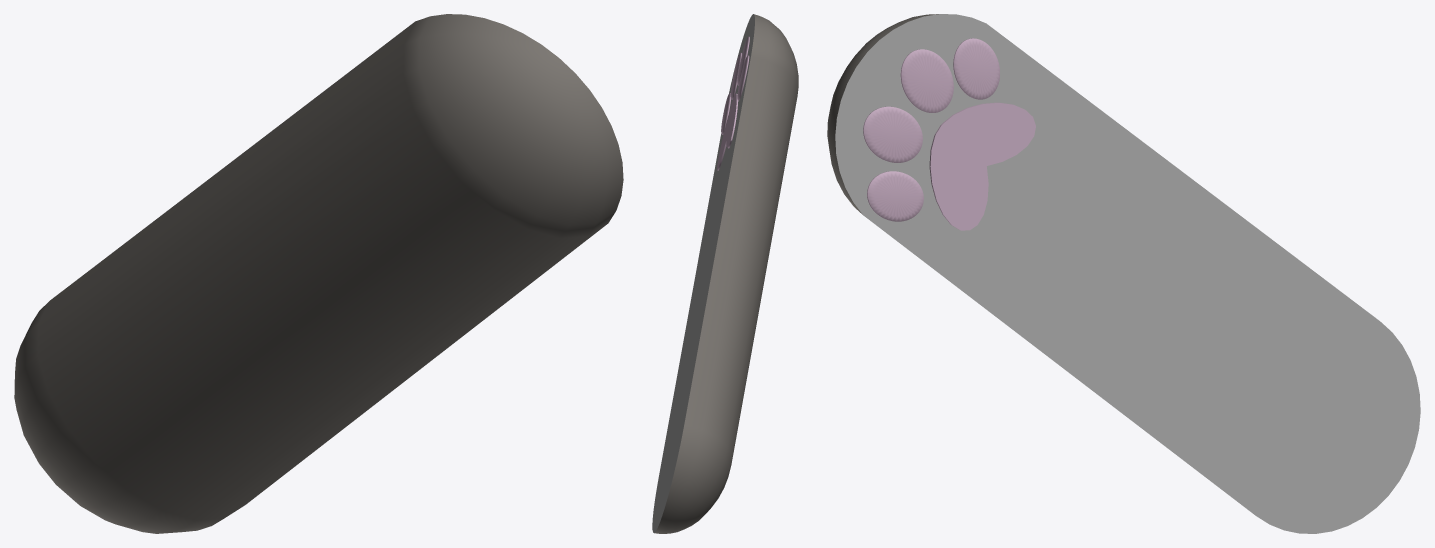
The model's file is cat_paw_animated.fbx.
3 renders of one model, left to right at view 1: azimuth 30°, elevation 25°; view 2: azimuth 150°, elevation 25°; view 3: azimuth 270°, elevation 25°, orthographic. The views are drawn at different scales.
Parts seen in each view (by area): view 1: cat_paw_mesh; view 2: cat_paw_mesh; view 3: cat_paw_mesh.
Boxes of the visible parts, box(x1,y1,x2,y2) form: cat_paw_mesh: box(14, 14, 623, 533); cat_paw_mesh: box(652, 14, 798, 533); cat_paw_mesh: box(827, 14, 1420, 533).
Size of the model in its own units: 33.88 by 74.83 by 73.78.
